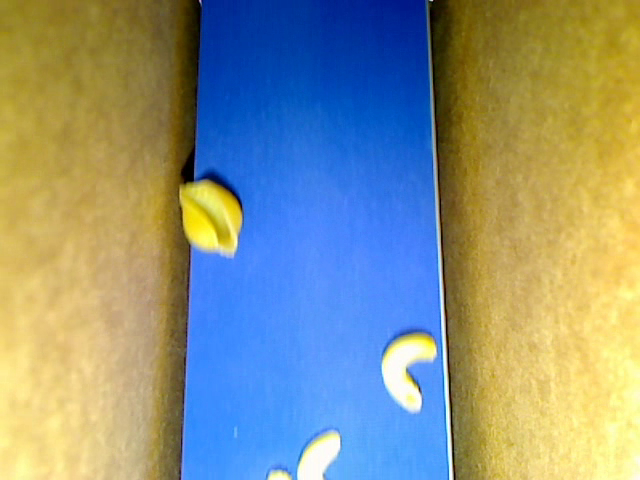elbow: (382, 331, 438, 413), (297, 427, 341, 478)
shell: (177, 179, 243, 256)
